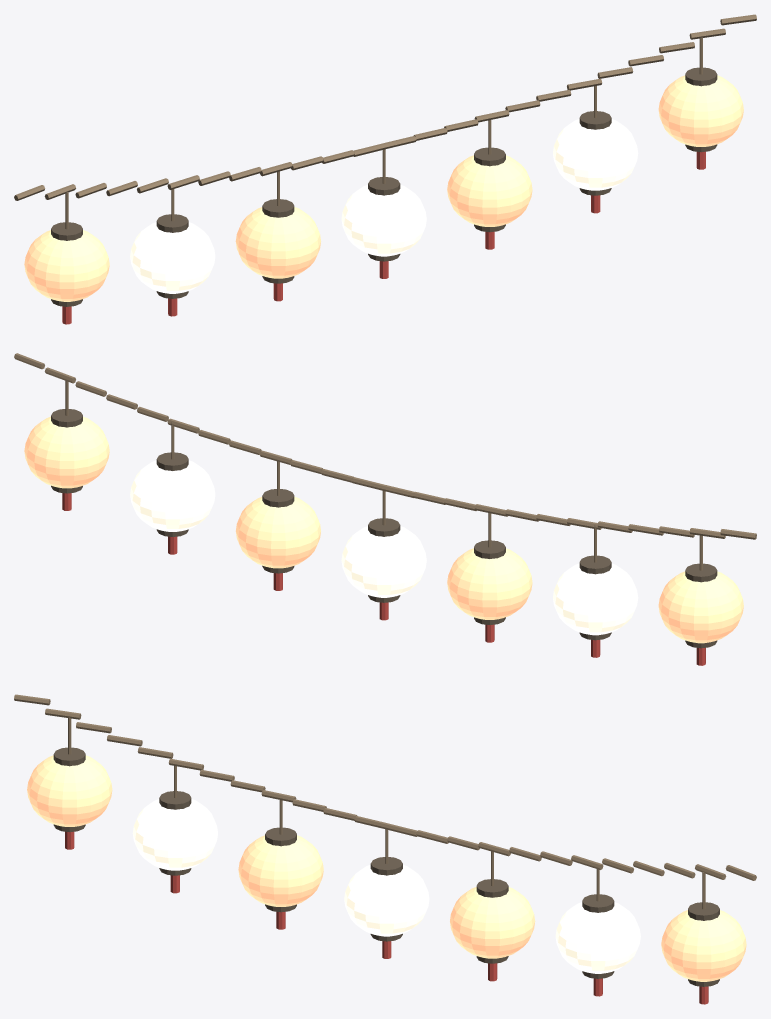
File: festival_lantern_string.glb
3 renders of one model, top to bottom at view 1: azimuth 30°, elevation 25°; view 2: azimuth 150°, elevation 25°; view 3: azimuth 330°, elevation 25°, orthographic.
Visible parts, largest first — view 1: festival_lantern_string; view 2: festival_lantern_string; view 3: festival_lantern_string.
Part boxes in pixels (<box>): festival_lantern_string: <box>14,14,756,324</box>; festival_lantern_string: <box>14,353,756,665</box>; festival_lantern_string: <box>14,694,756,1004</box>.
Size of the model in its own units: 3.21 by 0.716 by 0.32.
